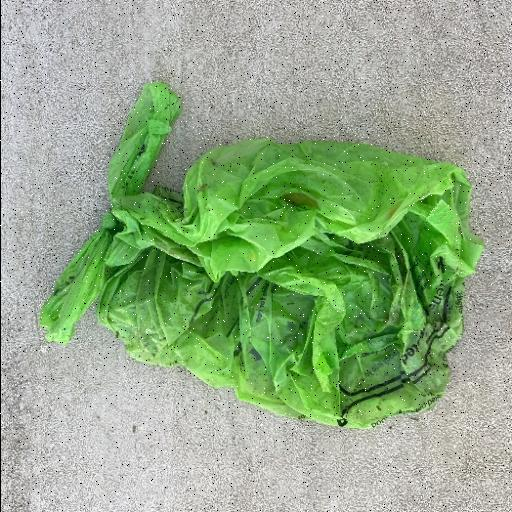Waste: (37, 80, 485, 430)
